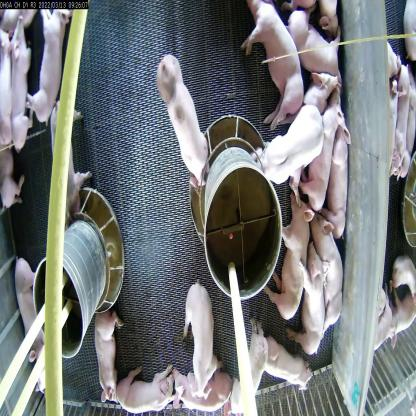Pig: (234, 0, 305, 122), (160, 53, 210, 194), (45, 88, 90, 227), (26, 7, 76, 130), (3, 231, 46, 371), (267, 192, 309, 321), (264, 102, 326, 189), (309, 83, 345, 225), (289, 13, 348, 88), (175, 357, 242, 415), (93, 304, 127, 416), (5, 15, 34, 144), (182, 278, 214, 388), (231, 314, 263, 416), (316, 212, 343, 329), (119, 363, 178, 415), (331, 118, 357, 230), (264, 338, 310, 396), (301, 252, 324, 359)
